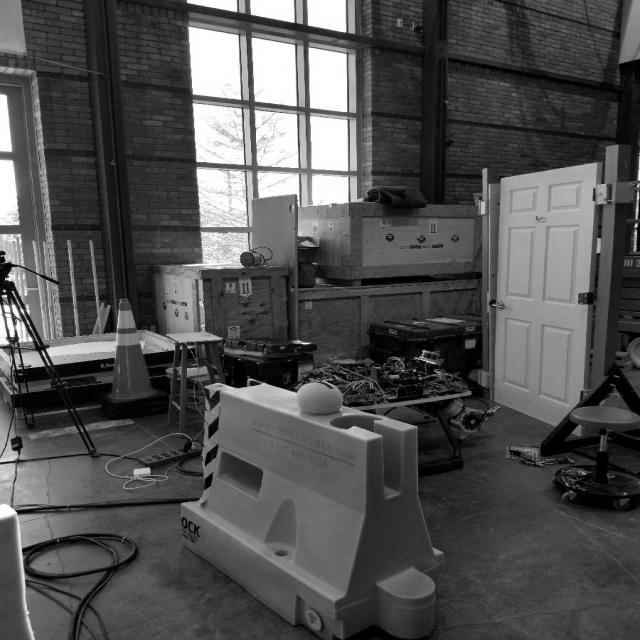door: (489, 160, 604, 442), (495, 300, 508, 312)
